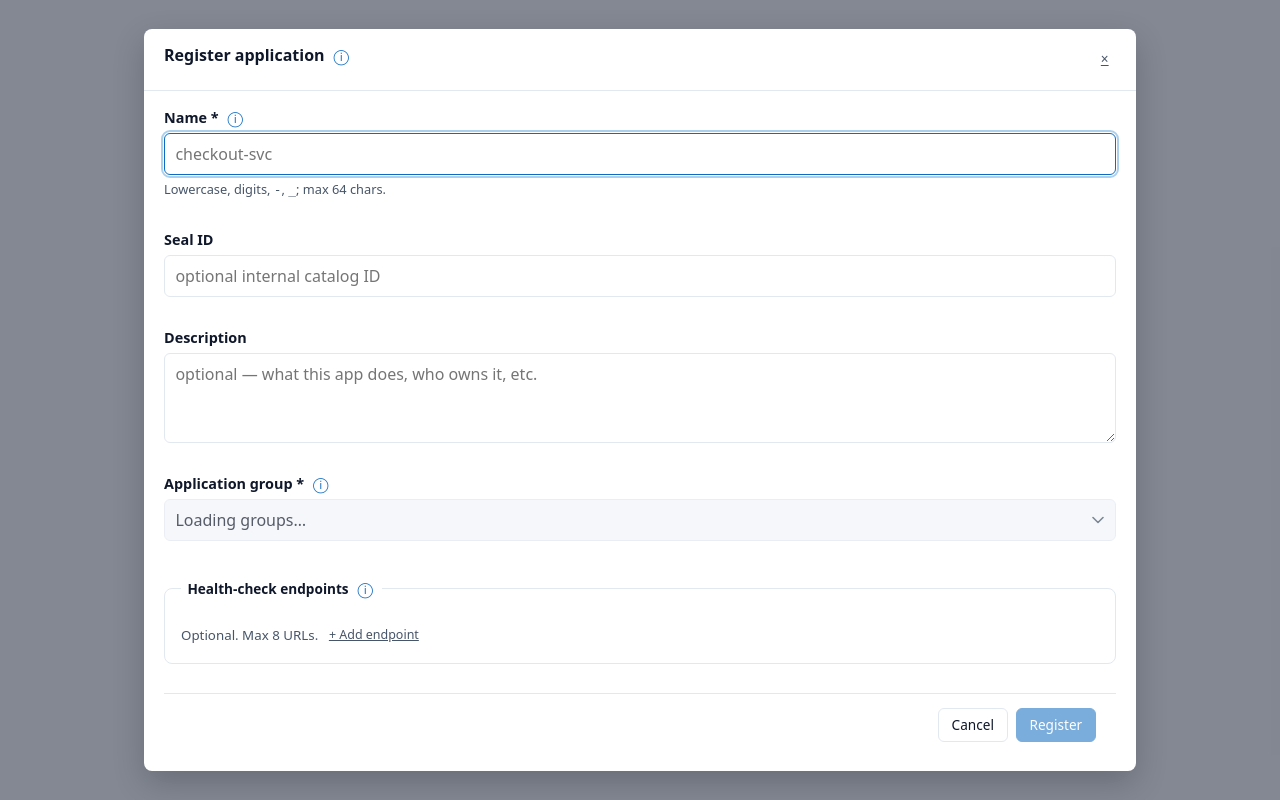
Test: CreateApplicationDialog — validation › invalid health endpoint URL keeps Register disabled
Type "ok-name" into the field labelled "Name *" at (640, 154), box [164,133,1116,175]
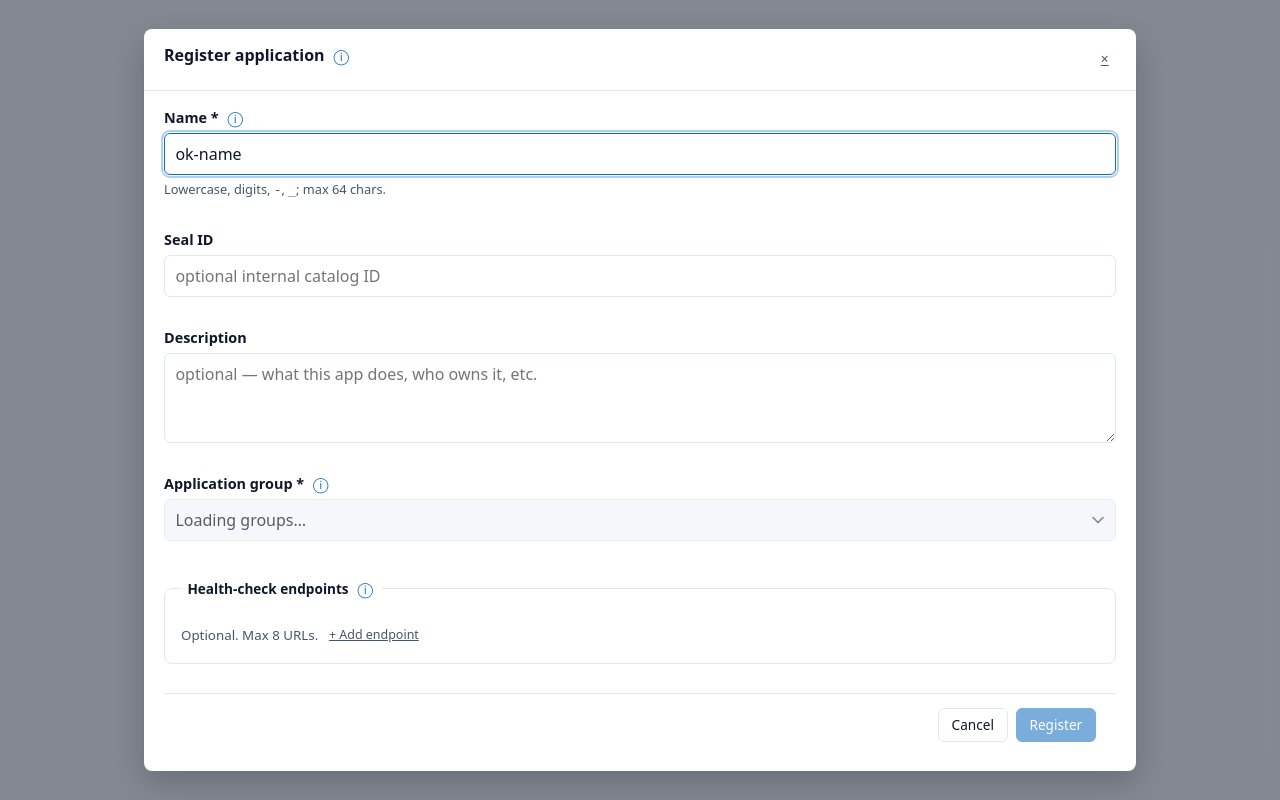
Click the button "+ Add endpoint" at (374, 636), box [318,621,430,650]
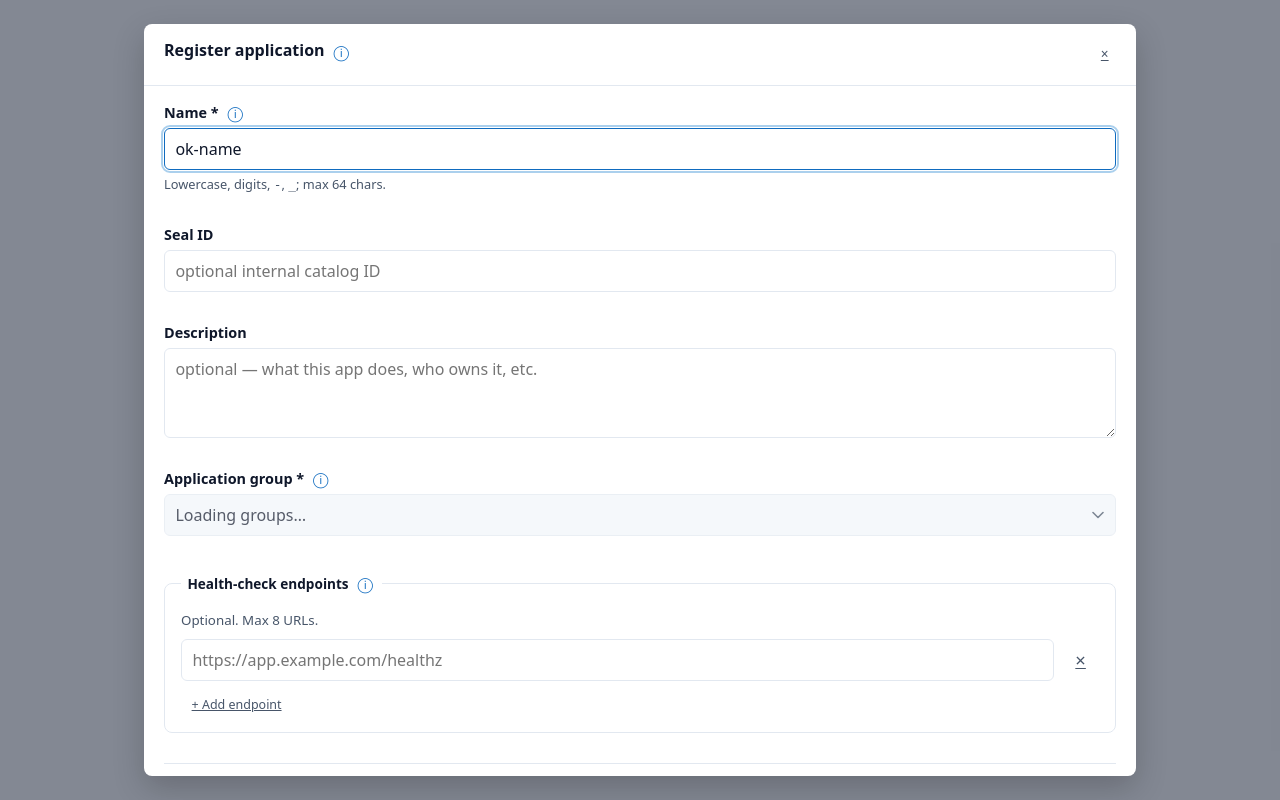
Type "ftp://nope" into the field named "health endpoint 1" at (618, 660), box [181,639,1054,681]
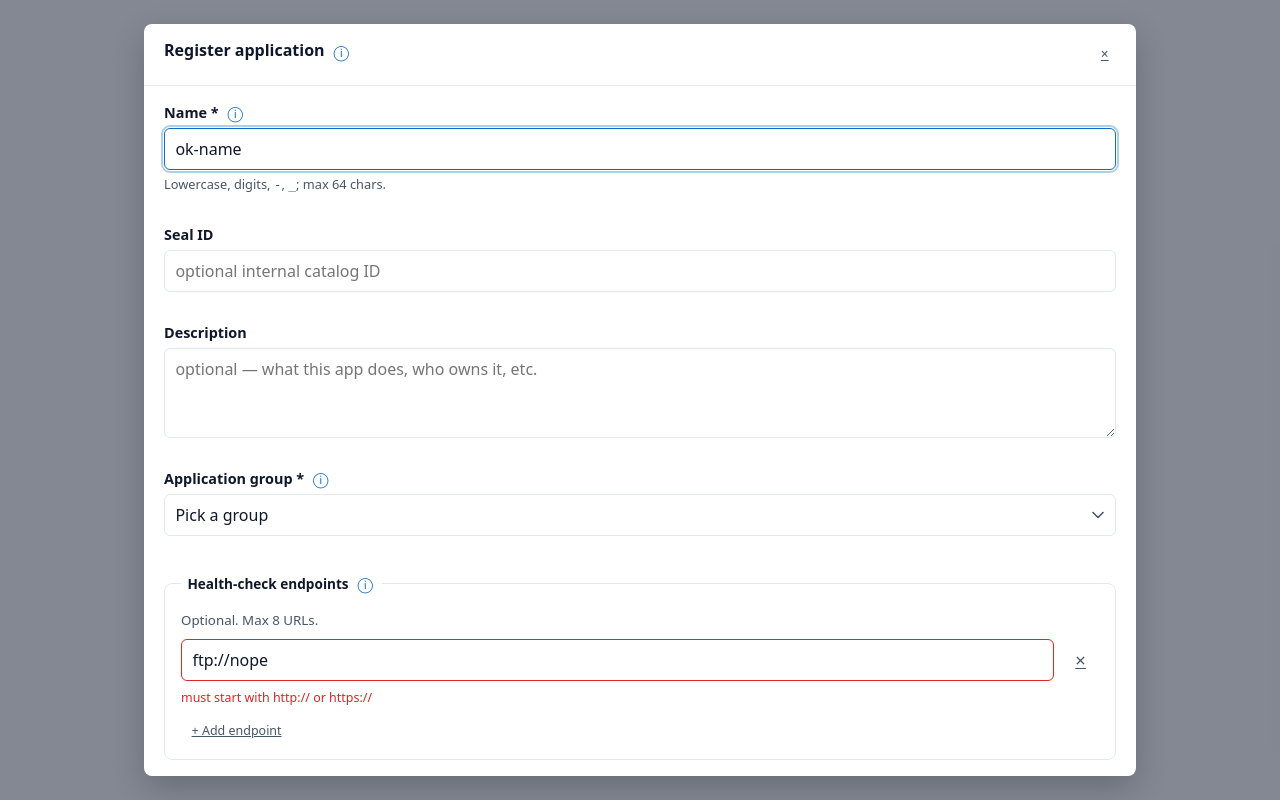
Result: the text "must start with http:// or https://" is shown at [181,689,372,706]
